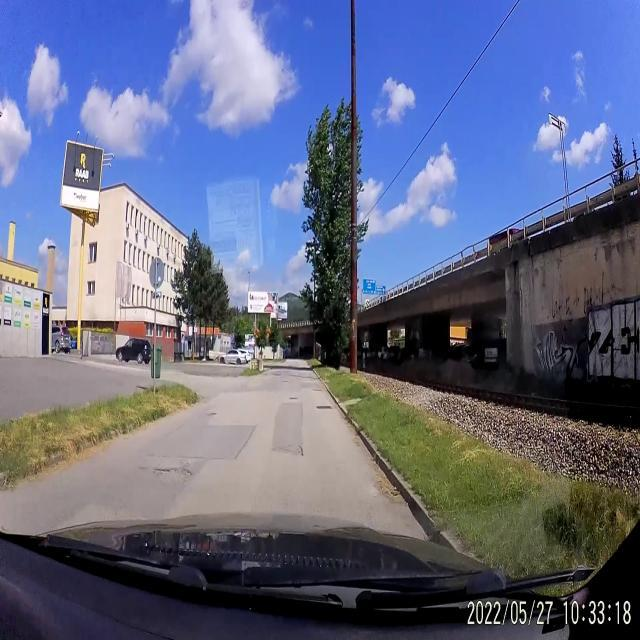Manhole: (315, 403, 332, 412)
Pothole: (152, 460, 192, 485), (269, 442, 305, 462), (287, 396, 300, 404), (269, 371, 283, 378), (206, 411, 219, 418), (280, 377, 290, 386), (312, 386, 323, 394)
